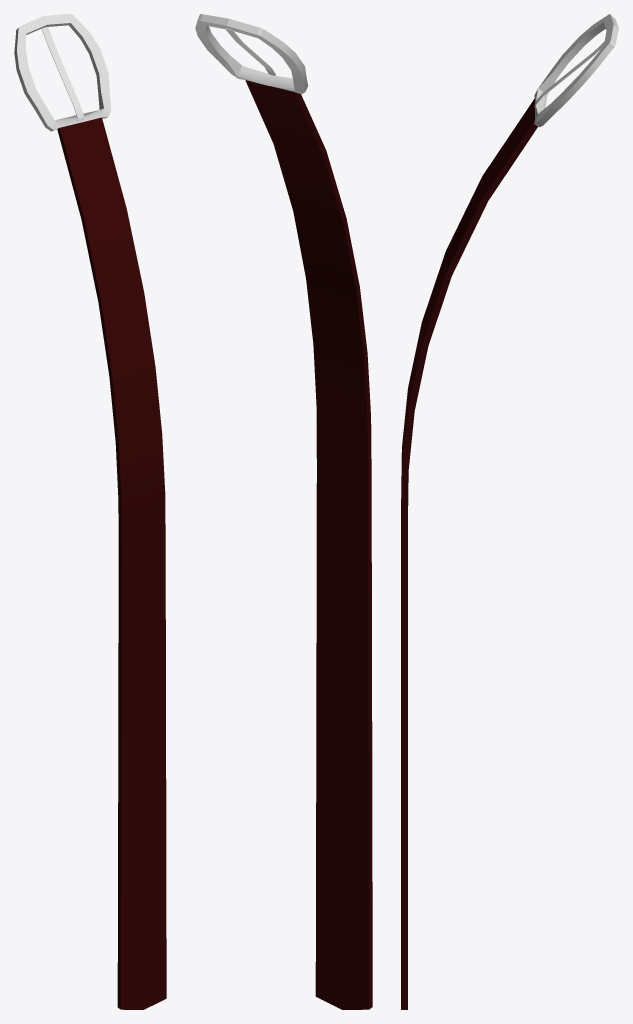
The model's file is CintoC (1).fbx.
3 views of the same model, side by side, from view 1: azimuth 30°, elevation 25°; view 2: azimuth 150°, elevation 25°; view 3: azimuth 270°, elevation 25° (orthographic). The views are drawn at different scales.
Parts seen in each view (by area): view 1: Cinto_C; view 2: Cinto_C; view 3: Cinto_C.
Boxes of the visible parts, x1=… form: Cinto_C: x1=14, y1=14, x2=166, y2=1009; Cinto_C: x1=195, y1=14, x2=372, y2=1009; Cinto_C: x1=401, y1=14, x2=618, y2=1009.
Bounding box in the file's own units: 6.75 × 73.05 × 14.71.
